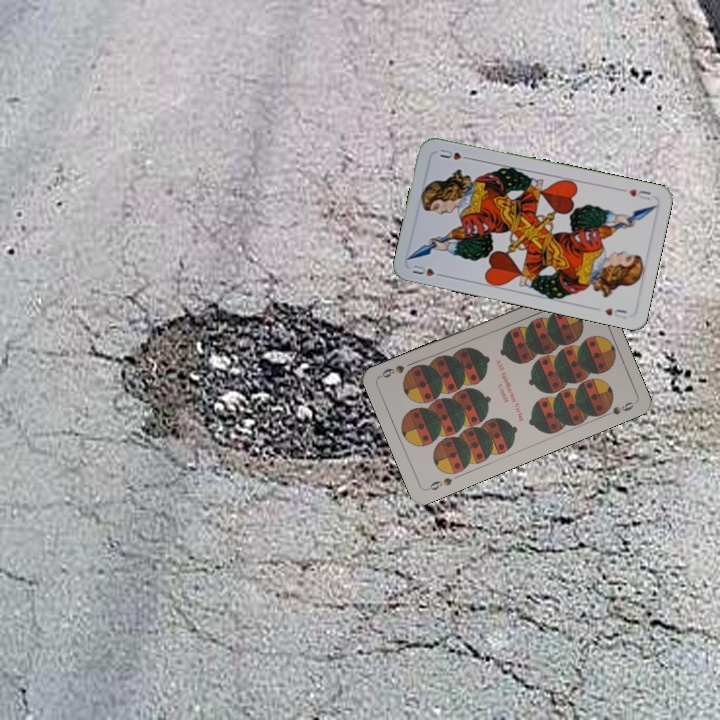HU: (408, 261, 447, 279), (624, 185, 654, 203)
S9: (423, 473, 455, 493)
